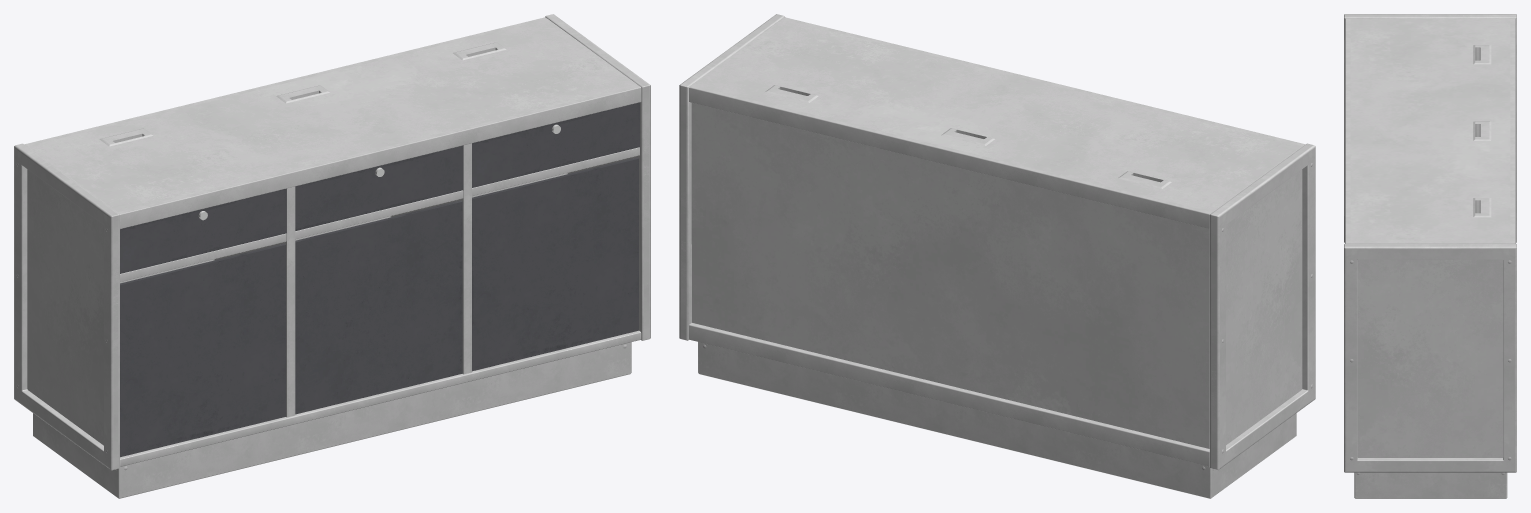
Rendered from SM_Counter_01a.glb.
The picture shows the model from 3 angles, left to right: view 1: azimuth 30°, elevation 25°; view 2: azimuth 150°, elevation 25°; view 3: azimuth 270°, elevation 25°; orthographic projection. The views are drawn at different scales.
Parts seen in each view (by area): view 1: SM_Counter_01a; view 2: SM_Counter_01a; view 3: SM_Counter_01a.
Boxes of the visible parts, <box> form: SM_Counter_01a: <box>14,14,650,498</box>; SM_Counter_01a: <box>679,14,1315,498</box>; SM_Counter_01a: <box>1344,14,1516,498</box>.
Size of the model in its own units: 1.96 by 1 by 0.6094.
1 material, 1 textured.
